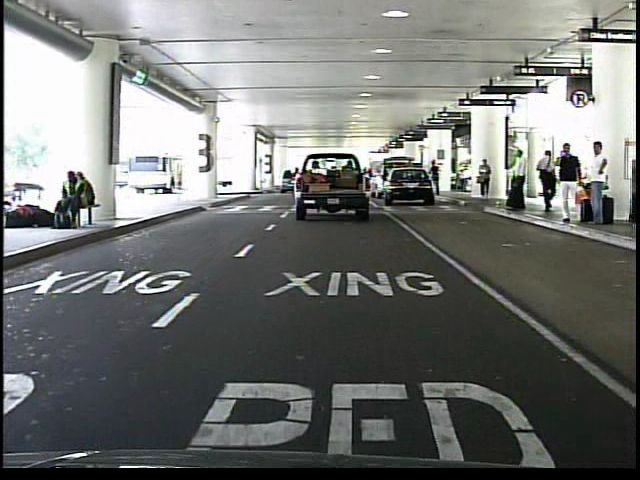person: (552, 141, 586, 230), (584, 136, 612, 232), (505, 147, 531, 214), (537, 145, 561, 215), (477, 159, 494, 204), (429, 161, 442, 199)
